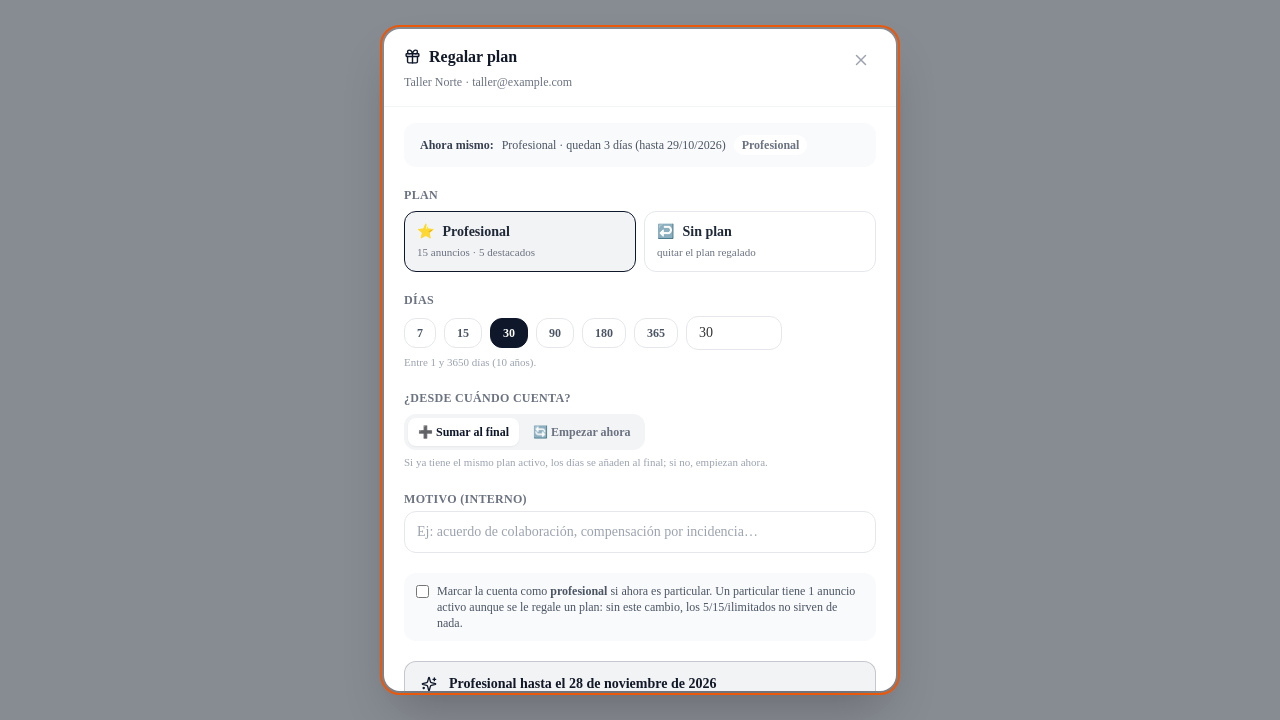
Test: RegalarPlanModal › al quitar el pack el botón pasa a ser destructivo y no pide días
Click the text "Sin plan" at (694, 232), box [657, 224, 732, 239]
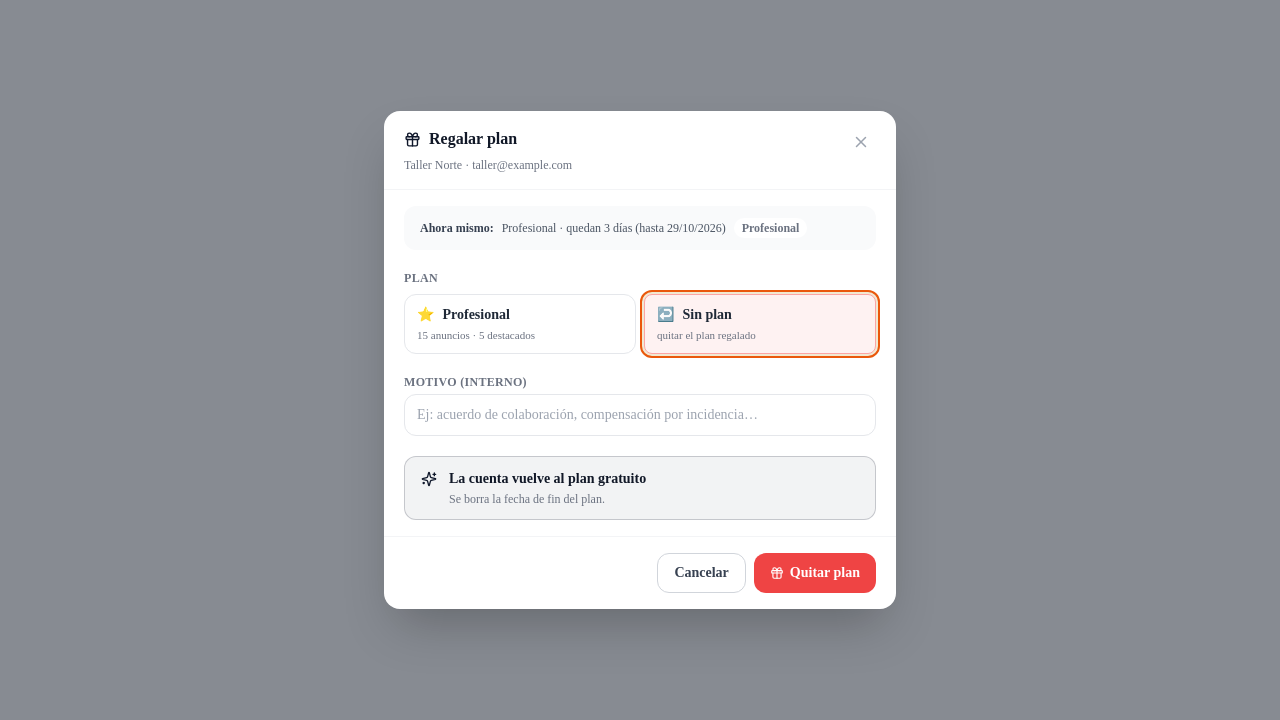
Result: the button "Quitar plan" is shown at [754, 553, 876, 593]
Result: the text "La cuenta vuelve al plan gratuito" is shown at [449, 469, 646, 489]
